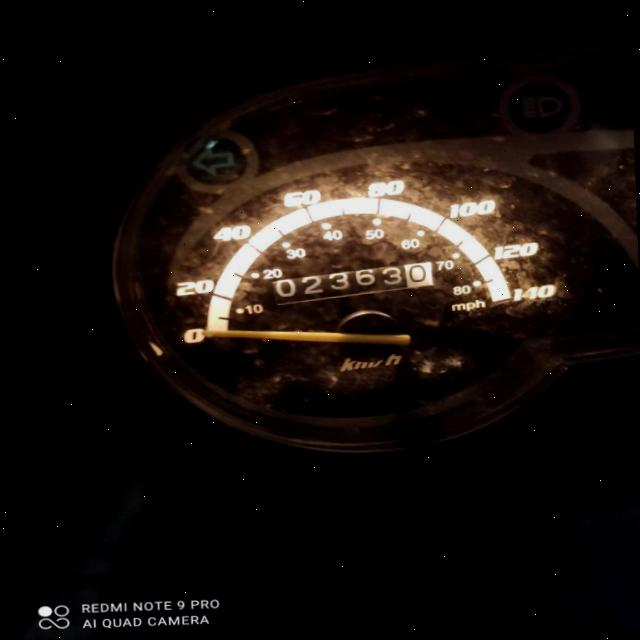odometer: (267, 259, 433, 305)
